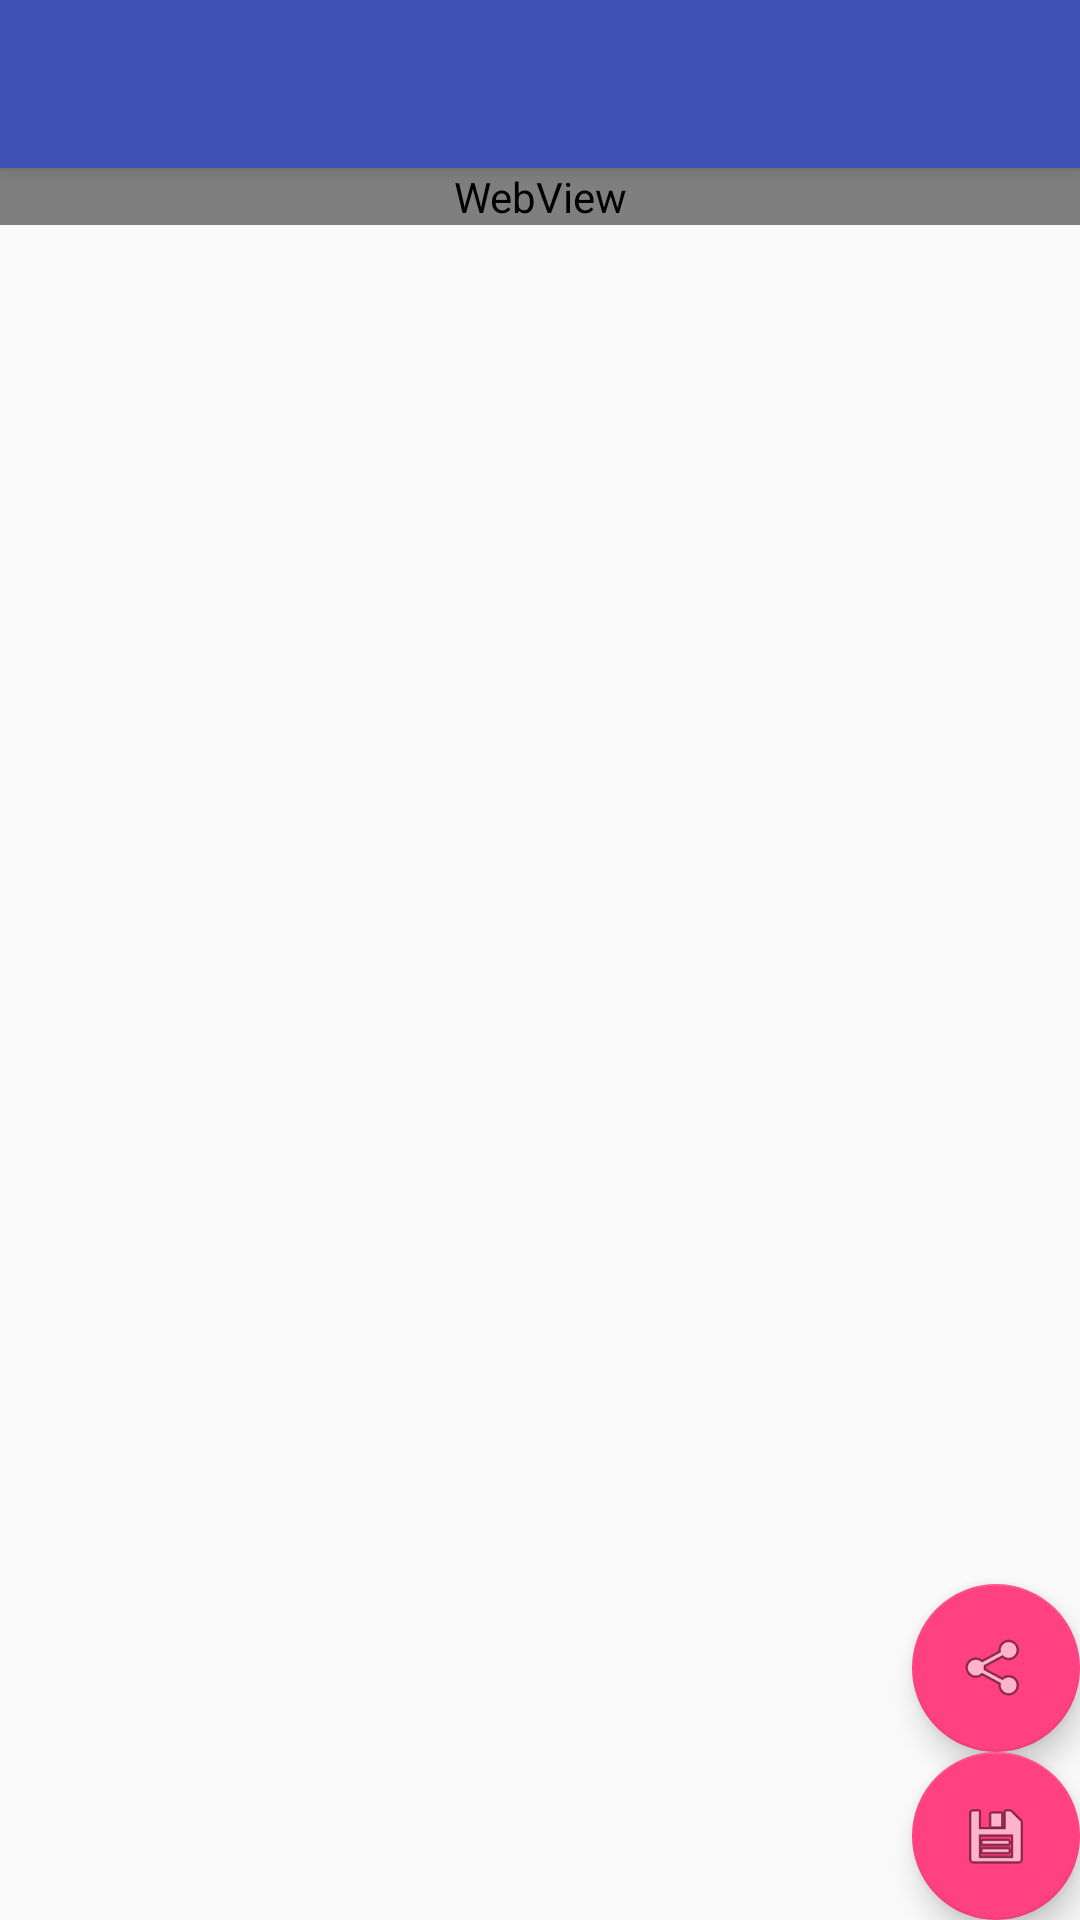

Where icons sit on this 1080*1920 app screen, as (x1, y1, x2, y2):
save: (912, 1752, 1080, 1920)
share: (912, 1584, 1080, 1752)
